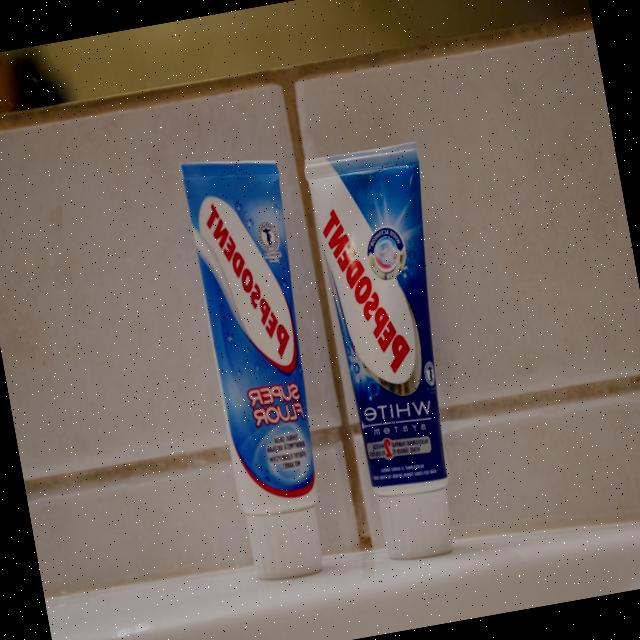Toothpaste: (164, 144, 354, 595), (303, 133, 491, 572)
